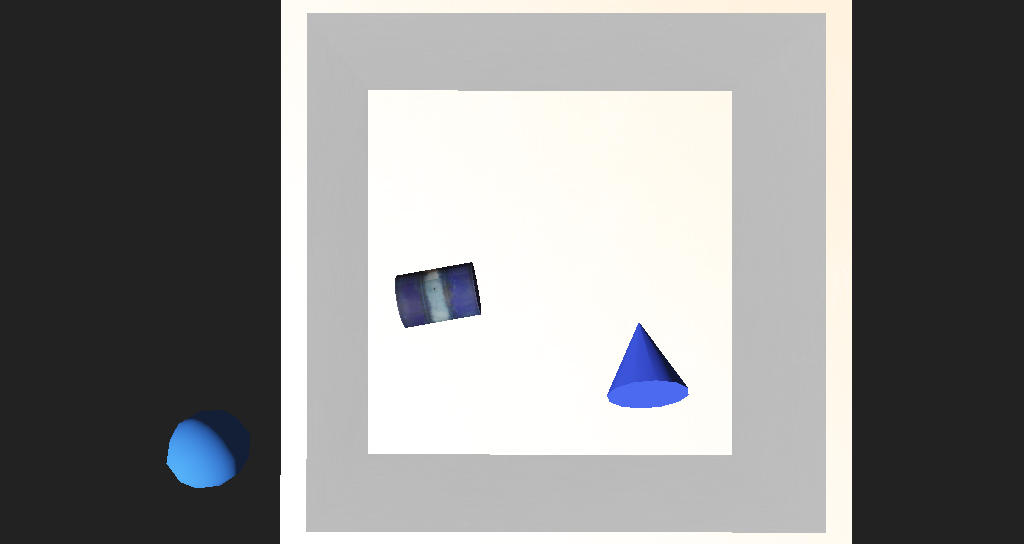cone: (371, 262, 451, 301)
cylinder: (546, 286, 613, 353)
sphere: (199, 351, 259, 394)
